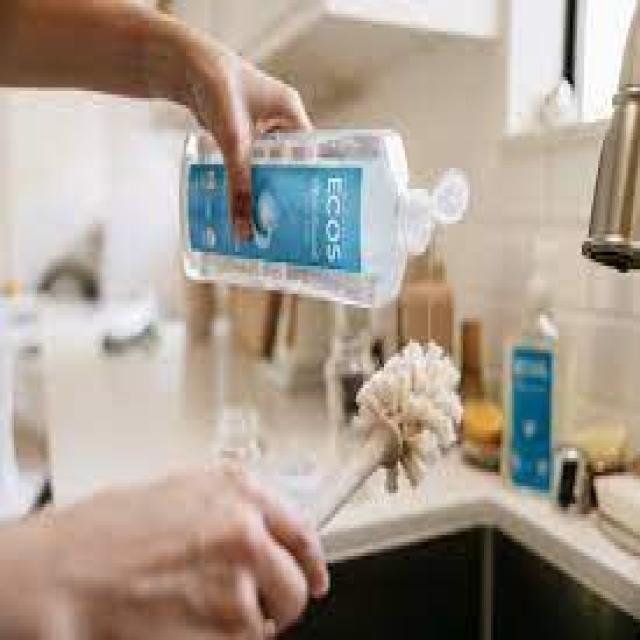liquid soap: (178, 110, 462, 318)
